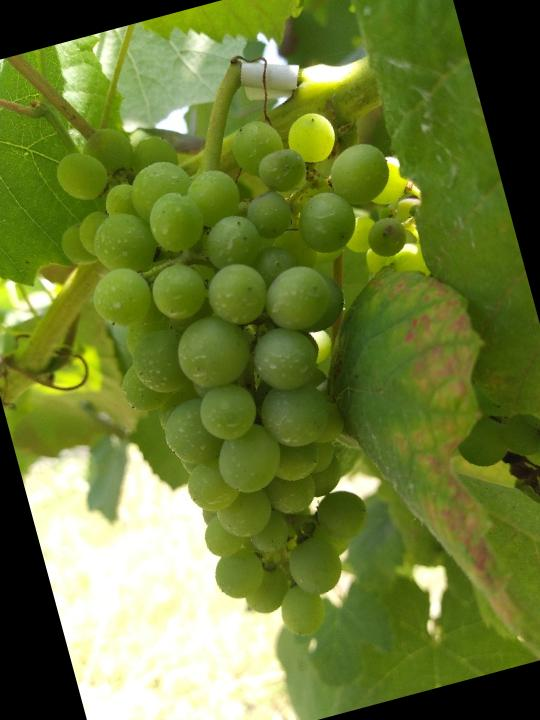grape: (31, 54, 516, 677)
